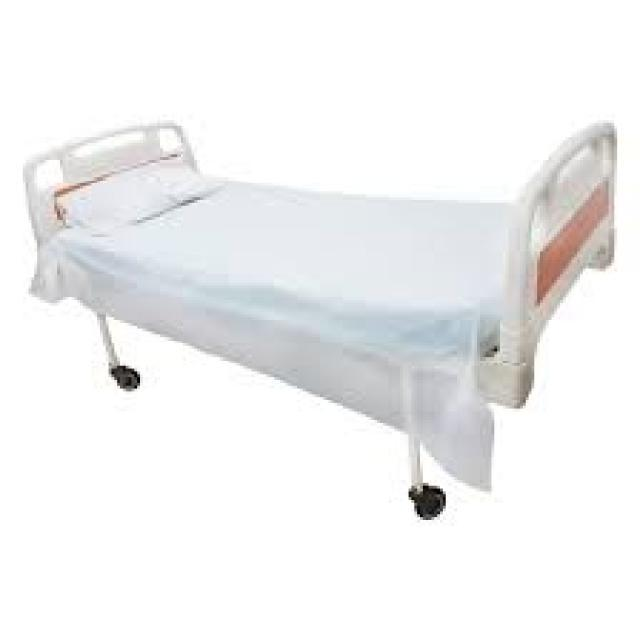bed: (20, 114, 617, 520)
